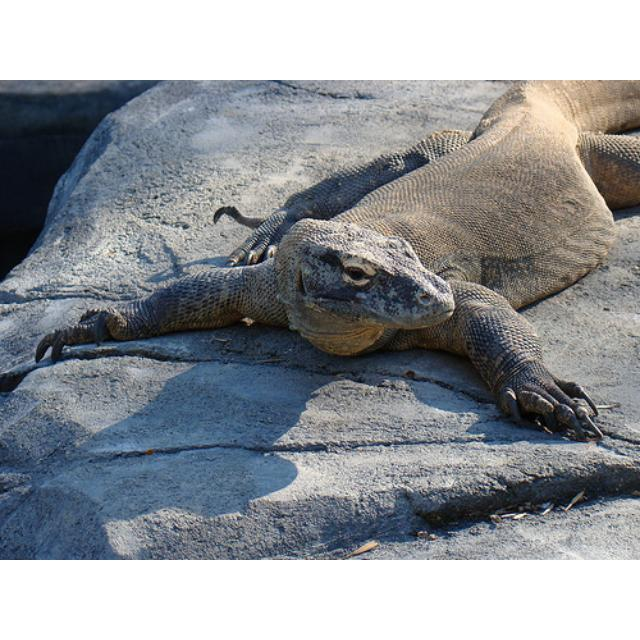KomodoDragon: (31, 84, 637, 441)
